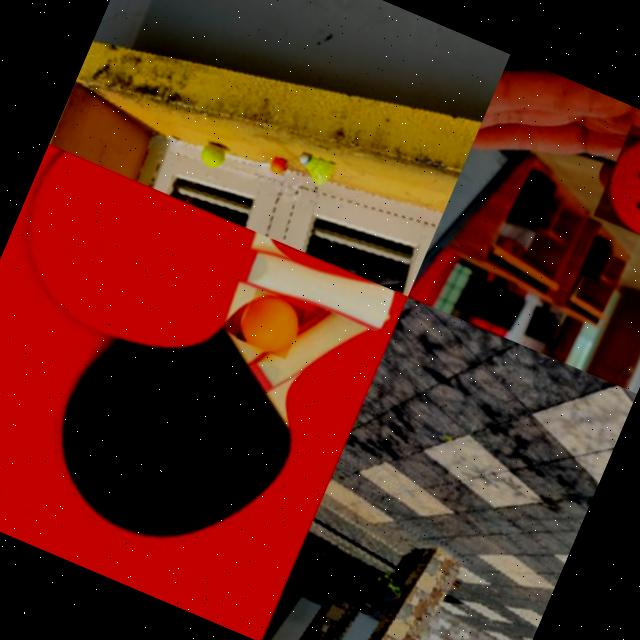ping-pong-ball: (592, 122, 640, 253), (233, 286, 306, 358), (268, 156, 288, 174)
